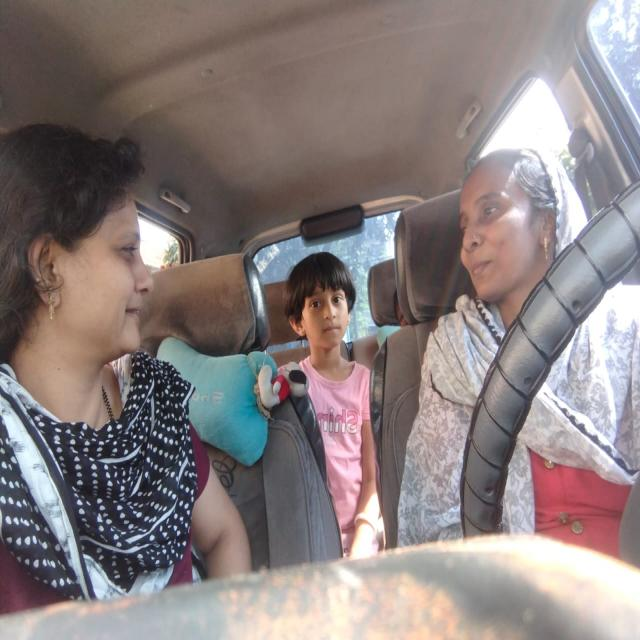LeftRight: (454, 156, 557, 297)
person: (6, 136, 154, 354), (282, 252, 365, 354)
